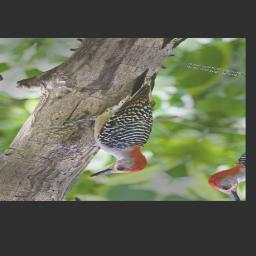Woodpecker: (17, 58, 215, 188)
